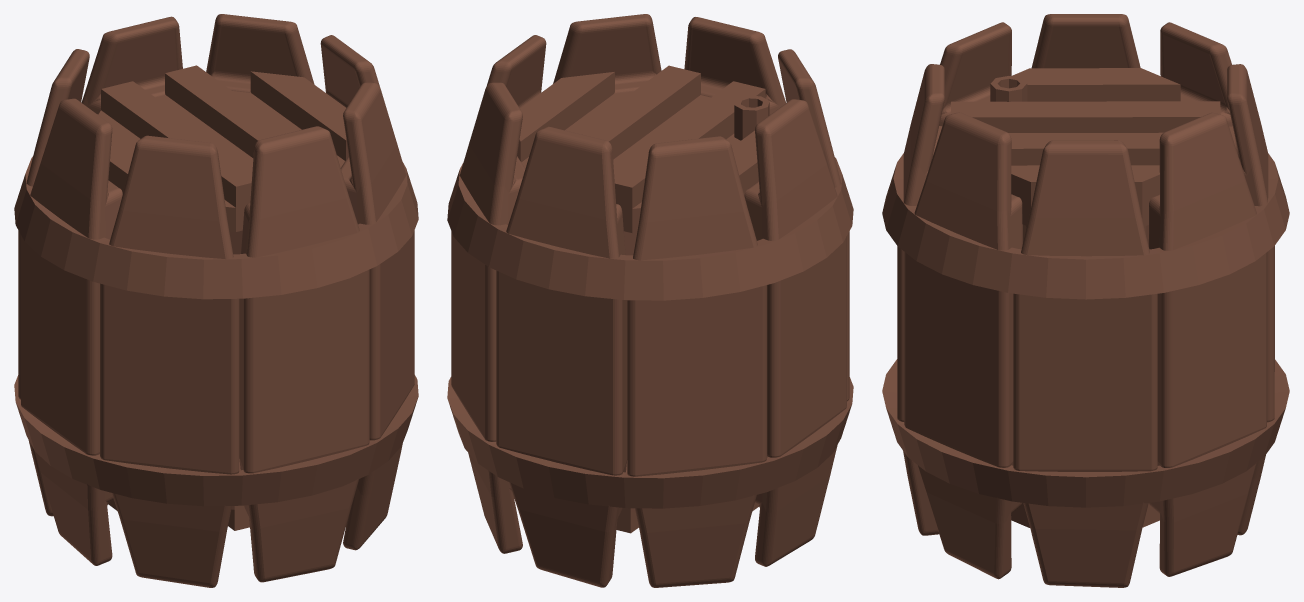
The model's file is Treibholz 1.2.fbx.
3 views of the same model, side by side, from view 1: azimuth 30°, elevation 25°; view 2: azimuth 150°, elevation 25°; view 3: azimuth 270°, elevation 25° (orthographic).
Parts seen in each view (by area): view 1: Trebholz Circel; view 2: Trebholz Circel; view 3: Trebholz Circel.
Part boxes in pixels (<box>): Trebholz Circel: <box>14,14,418,587</box>; Trebholz Circel: <box>447,14,853,587</box>; Trebholz Circel: <box>882,14,1289,587</box>.
Bounding box in the file's own units: 609 × 726 × 609.
